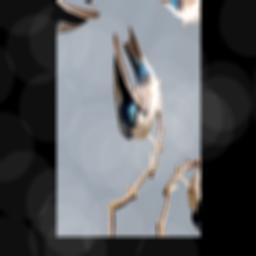Swallow: (87, 13, 183, 169)
